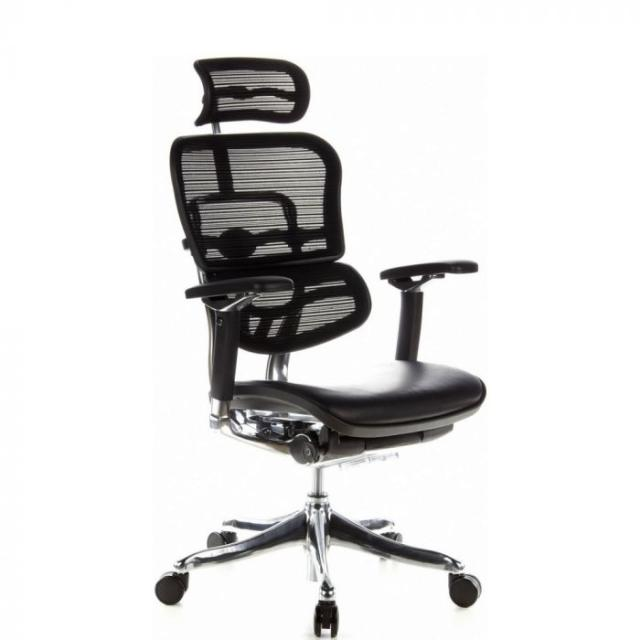chair: (154, 55, 486, 638)
